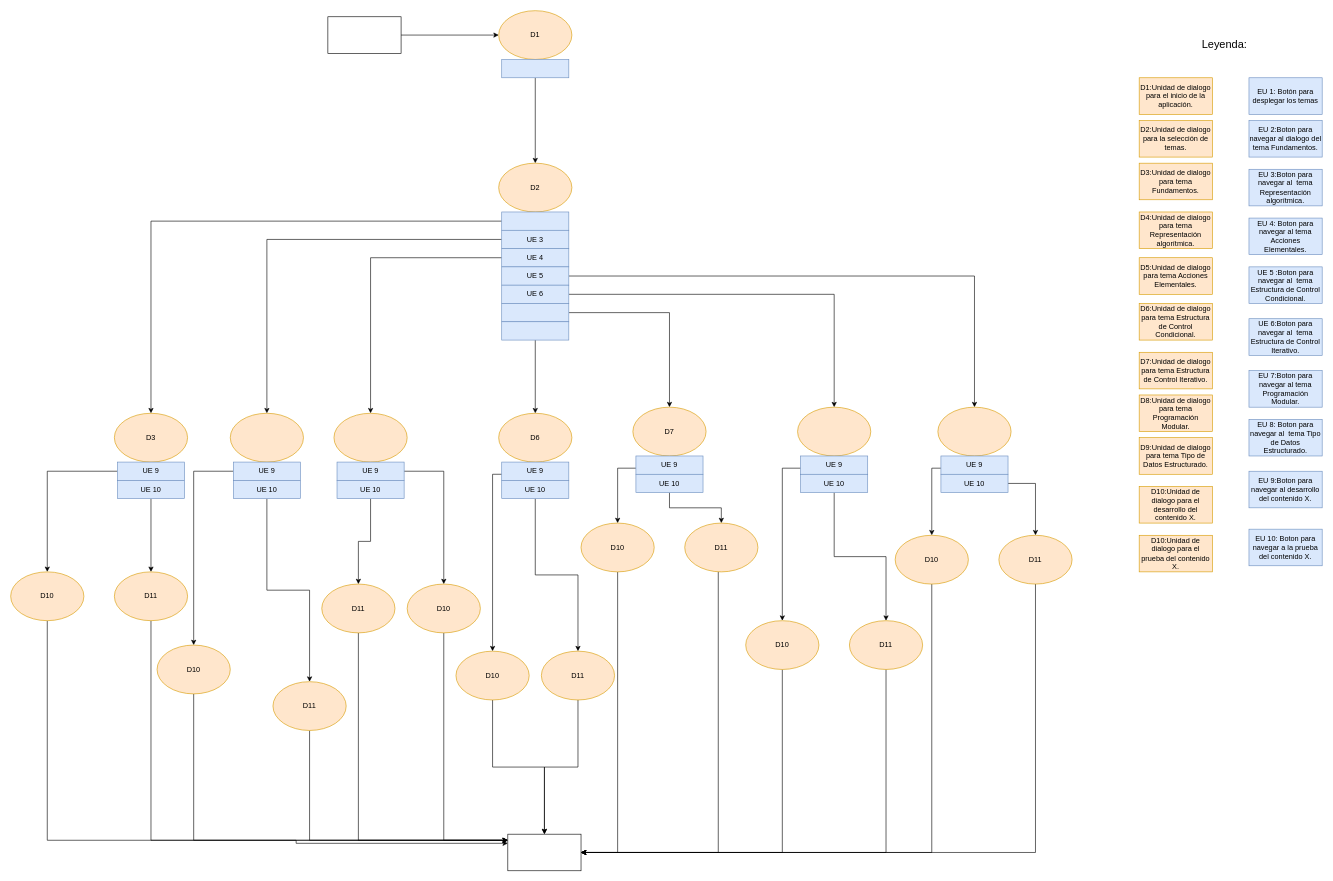
Image size: 1333x881. Some labels were removed from this diagram. Each missing label, with the centre of its shape:
D4: (x=266, y=437)
D5: (x=370, y=437)
D8: (x=834, y=431)
D9: (x=974, y=431)
FIN: (x=544, y=852)
Inicio: (x=364, y=34)
UE 1: (x=535, y=68)
UE 2: (x=535, y=220)
UE 7: (x=535, y=312)
UE 8: (x=535, y=330)
